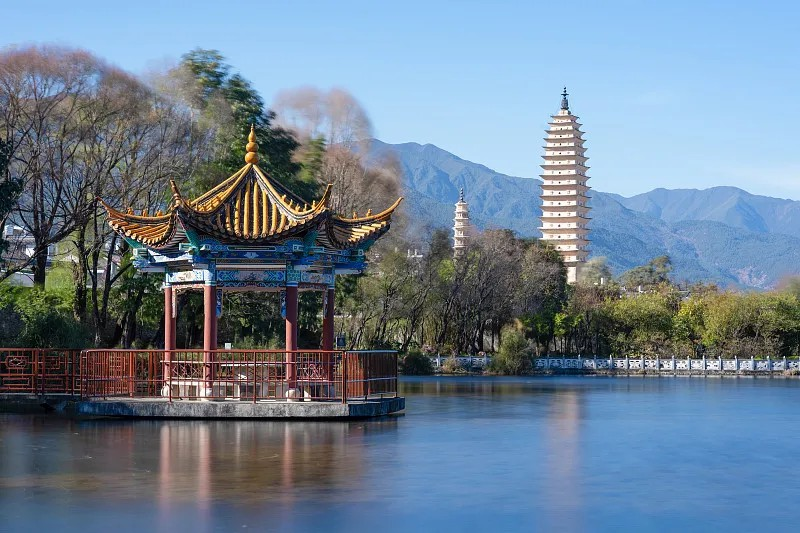ThreePagoda: (539, 85, 592, 262)
